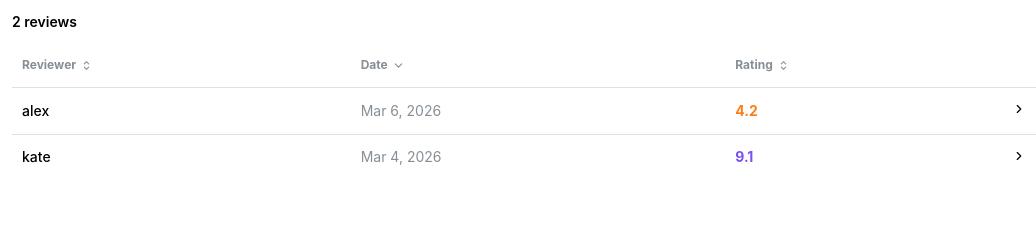
AlbumReviewsTable › opens one review body at a time on a row click
This screenshot has width=1036, height=243.
Click the text "kate". click: [36, 157]
box: [22,148,51,165]
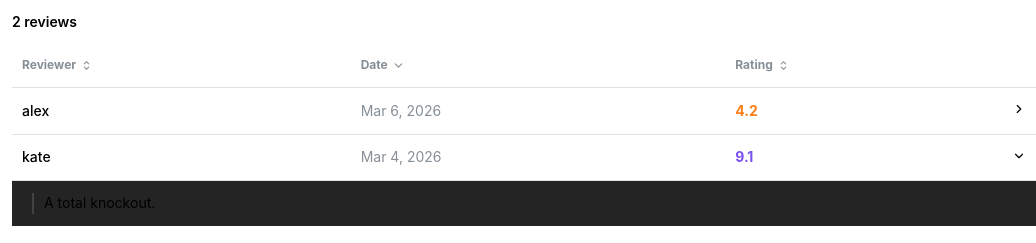
Now the text "A total knockout." is shown, box [32,193,1016,214]
Click the text "alex". click: [36, 110]
box: [22,102,49,119]
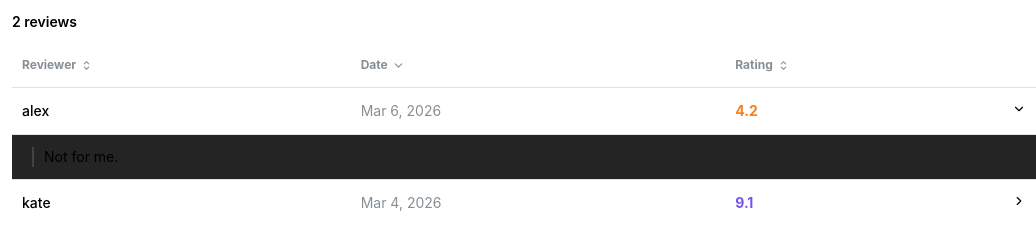
Now the text "A total knockout." is gone
Now the text "Not for me." is shown, box [32,147,1016,167]
